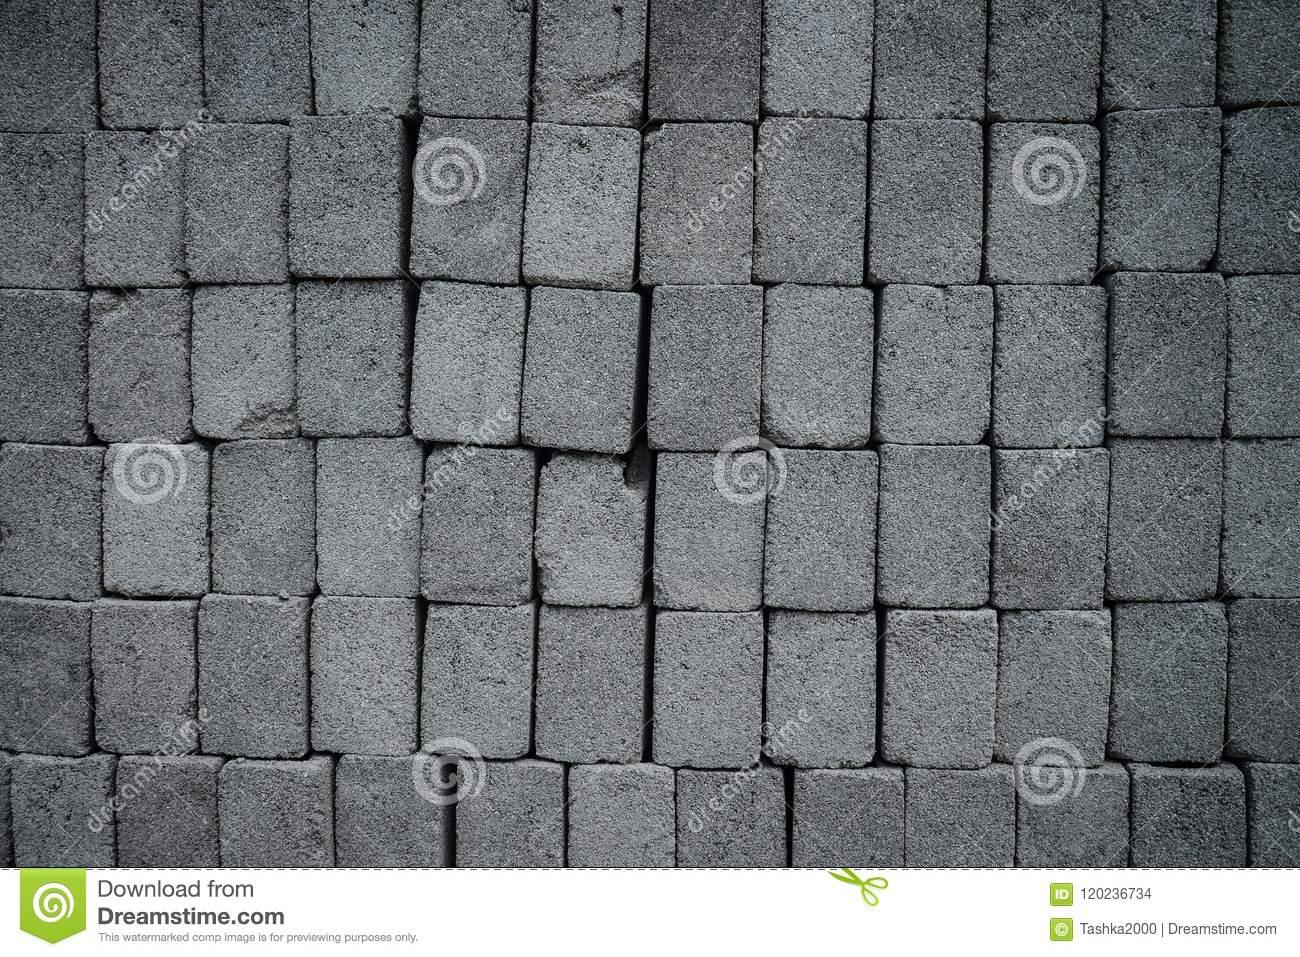brick: (523, 287, 641, 452), (523, 125, 639, 290), (648, 286, 763, 451), (410, 119, 527, 281), (1111, 272, 1225, 437), (754, 117, 866, 285), (1101, 110, 1220, 267), (411, 281, 524, 443), (877, 284, 992, 443), (1109, 440, 1223, 601), (764, 449, 878, 610), (1111, 601, 1225, 760), (288, 114, 400, 276), (871, 119, 983, 281), (642, 122, 753, 285), (884, 610, 997, 769), (998, 610, 1112, 767), (879, 445, 990, 607), (996, 449, 1109, 608), (651, 611, 763, 769), (422, 449, 536, 605), (200, 596, 308, 758), (762, 284, 871, 444), (421, 604, 534, 758), (988, 123, 1098, 282), (536, 607, 646, 764), (654, 454, 765, 610), (995, 286, 1102, 446), (184, 123, 289, 285), (316, 437, 422, 597), (765, 613, 875, 766), (296, 282, 405, 435), (312, 597, 417, 754), (0, 443, 104, 601), (102, 443, 209, 594), (192, 286, 297, 437), (537, 457, 644, 606), (213, 439, 315, 594), (93, 603, 196, 753), (89, 291, 189, 444), (85, 130, 183, 283), (1, 596, 89, 755), (647, 0, 762, 119), (987, 0, 1101, 119), (535, 2, 646, 124), (1219, 106, 1300, 274), (418, 0, 532, 117), (873, 0, 987, 116), (0, 131, 84, 288), (99, 0, 202, 127), (0, 288, 84, 443), (204, 0, 312, 120), (761, 1, 872, 116), (1, 0, 96, 132), (312, 0, 419, 113), (337, 756, 443, 869), (216, 764, 333, 866), (1225, 438, 1300, 598), (1104, 0, 1216, 106), (455, 761, 564, 866), (1228, 275, 1300, 434), (1229, 600, 1300, 761), (12, 755, 114, 866), (1133, 767, 1247, 867), (1017, 767, 1127, 866), (793, 767, 902, 866), (570, 764, 675, 866), (905, 769, 1015, 866), (677, 769, 786, 866), (118, 760, 217, 866), (1220, 0, 1299, 102), (1251, 763, 1300, 866)
